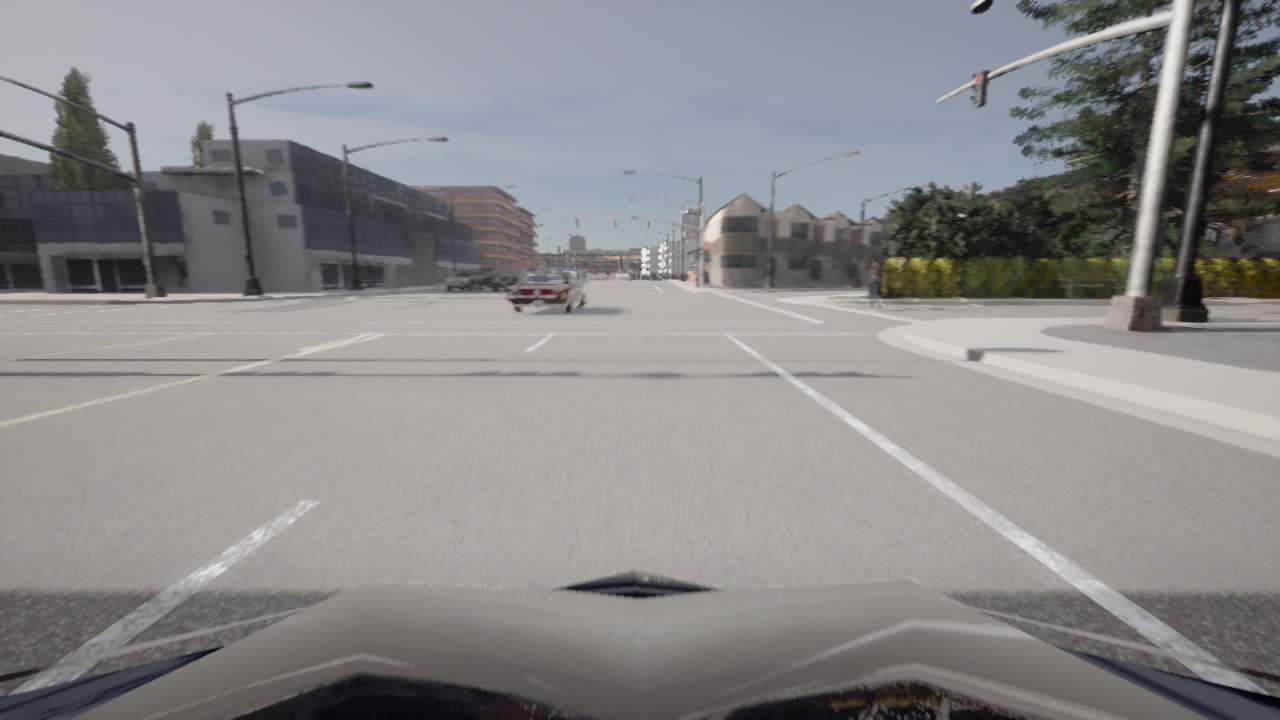cyclist: (0, 569, 1279, 719), (507, 273, 587, 313), (445, 268, 485, 291), (492, 267, 528, 291), (477, 267, 500, 288), (526, 267, 550, 273), (516, 264, 538, 266)
pedestrian: (866, 256, 882, 309)
